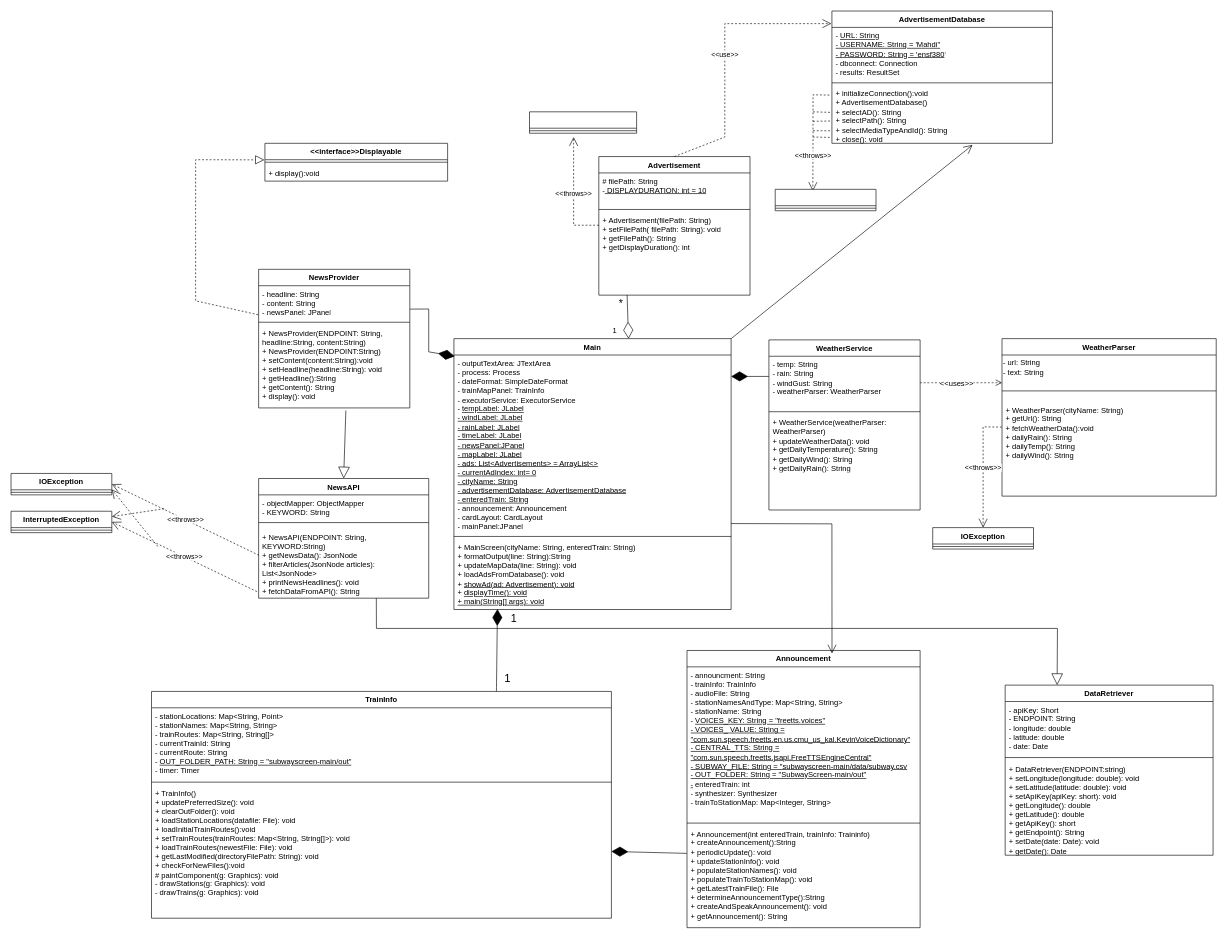
Image size: 1227x941. Some labels were removed from this diagram. Each missing label, with the centre of its shape:
"IllegalArgumentException" goes at [583,122].
"SQLException" goes at [825,200].
